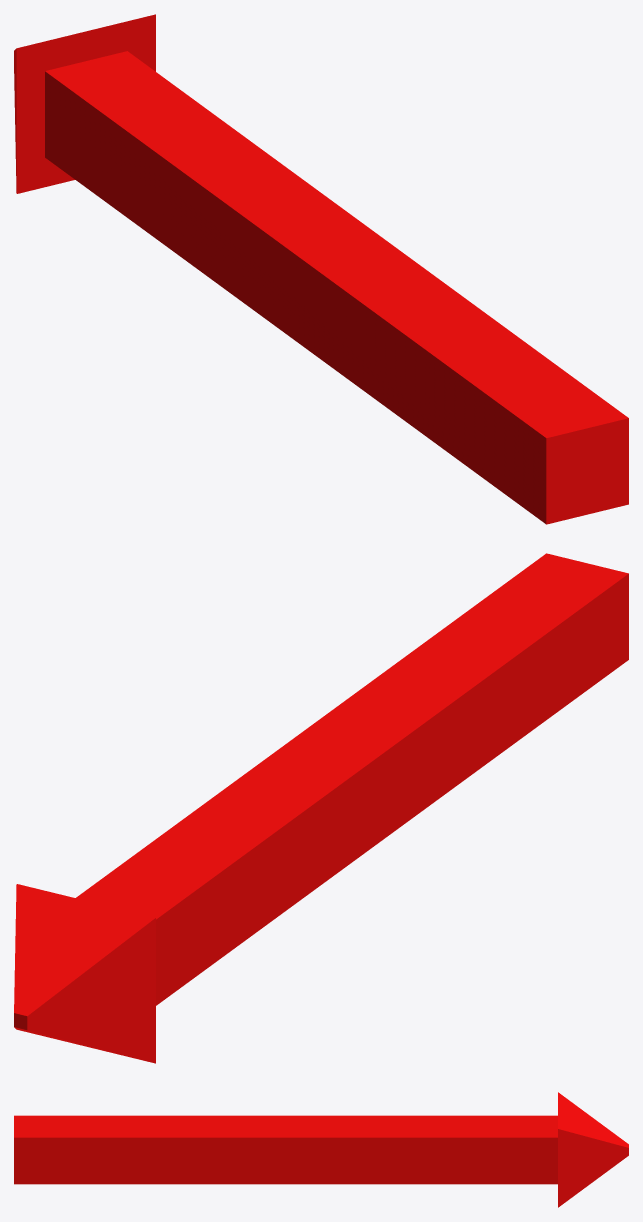
The model's file is direction.gltf.
3 views of the same model, one above another, from view 1: azimuth 30°, elevation 25°; view 2: azimuth 150°, elevation 25°; view 3: azimuth 270°, elevation 25° (orthographic). The views are drawn at different scales.
Parts seen in each view (by area): view 1: Cube; view 2: Cube; view 3: Cube.
Part boxes in pixels (x1=…): Cube: x1=14, y1=14, x2=628, y2=524; Cube: x1=14, y1=553, x2=628, y2=1063; Cube: x1=14, y1=1092, x2=628, y2=1207.
Bounding box in the file's own units: 0.0338 × 0.0338 × 0.2381.
